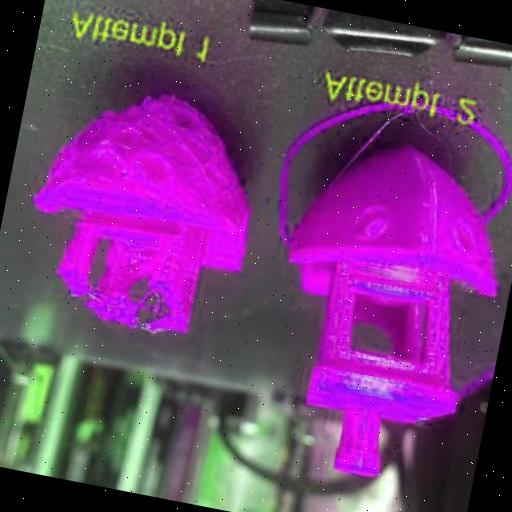spaghetti: (87, 280, 164, 322)
